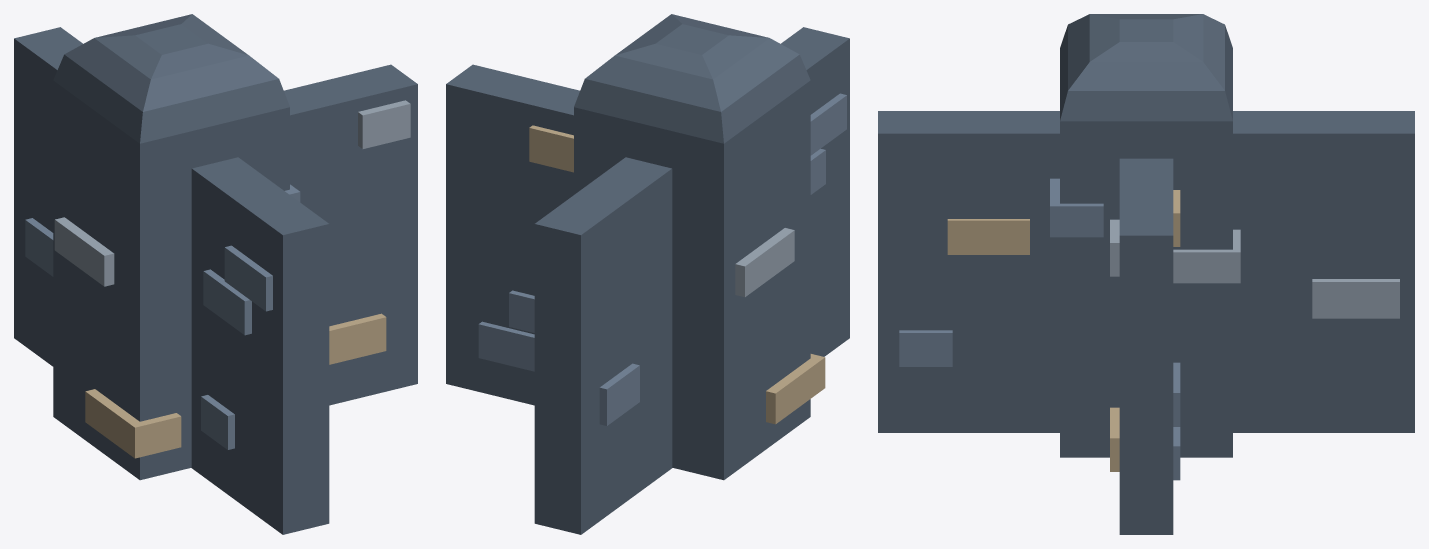
The model's file is wall4.fbx.
3 renders of one model, left to right at view 1: azimuth 30°, elevation 25°; view 2: azimuth 150°, elevation 25°; view 3: azimuth 270°, elevation 25°, orthographic.
Parts seen in each view (by area): view 1: wall4; view 2: wall4; view 3: wall4.
Part boxes in pixels (x1=…): wall4: x1=14, y1=14, x2=417, y2=534; wall4: x1=446, y1=14, x2=849, y2=534; wall4: x1=878, y1=14, x2=1414, y2=534.
Size of the model in its own units: 137 by 161 by 200.
